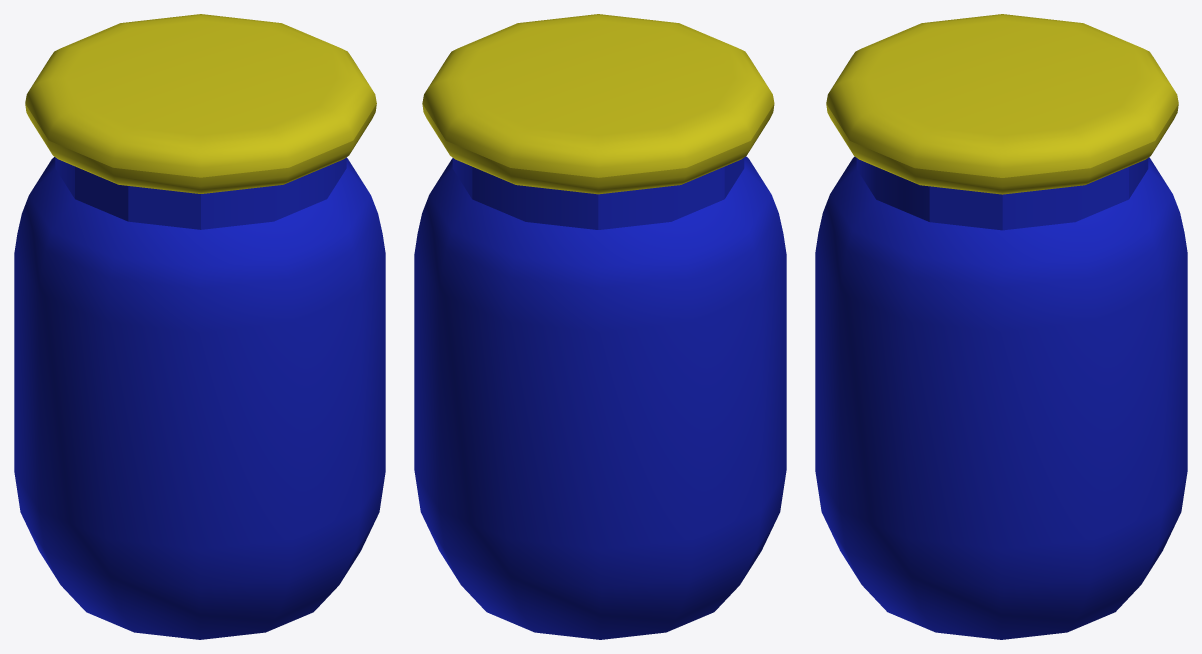
Rendered from PoteDecorazao.fbx.
3 renders of one model, left to right at view 1: azimuth 30°, elevation 25°; view 2: azimuth 150°, elevation 25°; view 3: azimuth 270°, elevation 25°, orthographic.
Parts seen in each view (by area): view 1: Capsule002; view 2: Capsule002; view 3: Capsule002.
Boxes of the visible parts, box(x1,y1,x2,y2) form: Capsule002: box(14, 14, 385, 639); Capsule002: box(414, 14, 786, 639); Capsule002: box(815, 14, 1187, 639).
Bounding box in the file's own units: 0.4068 × 0.6184 × 0.4068.
